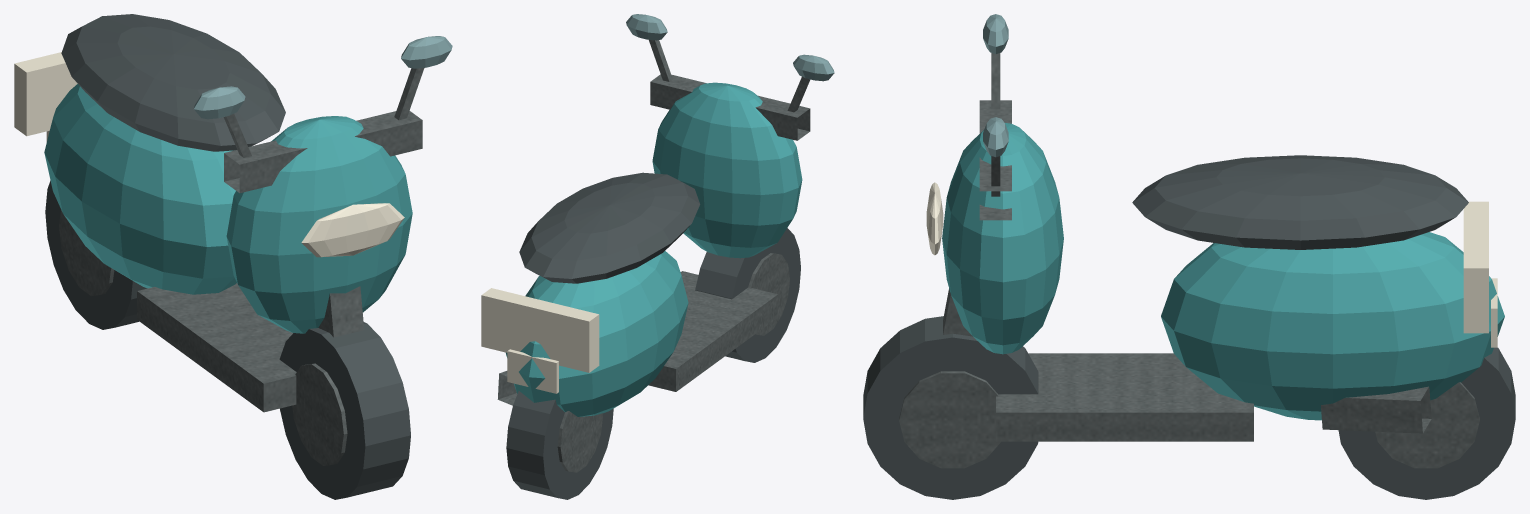
The model's file is tw_scooter.glb.
3 views of the same model, side by side, from view 1: azimuth 30°, elevation 25°; view 2: azimuth 150°, elevation 25°; view 3: azimuth 270°, elevation 25° (orthographic). The views are drawn at different scales.
Visible parts, largest first — view 1: FictionalShopAccent, CharcoalRecess, GalvanizedMetal, PaintedCream, OpaqueStoreGlazing; view 2: FictionalShopAccent, CharcoalRecess, GalvanizedMetal, PaintedCream, OpaqueStoreGlazing; view 3: FictionalShopAccent, CharcoalRecess, GalvanizedMetal, PaintedCream, OpaqueStoreGlazing.
Part boxes in pixels (box(x1,y1,x2,y2)): FictionalShopAccent: box(44, 84, 412, 333); CharcoalRecess: box(45, 14, 410, 499); GalvanizedMetal: box(59, 68, 424, 465); PaintedCream: box(14, 52, 404, 257); OpaqueStoreGlazing: box(194, 36, 452, 119); FictionalShopAccent: box(506, 82, 802, 416); CharcoalRecess: box(506, 172, 800, 499); GalvanizedMetal: box(497, 40, 810, 472); PaintedCream: box(481, 288, 599, 393); OpaqueStoreGlazing: box(626, 14, 834, 81); FictionalShopAccent: box(942, 123, 1504, 420); CharcoalRecess: box(863, 155, 1515, 499); GalvanizedMetal: box(899, 53, 1479, 468); PaintedCream: box(926, 182, 1497, 347); OpaqueStoreGlazing: box(983, 14, 1008, 157).
Bounding box in the file's own units: 0.85 × 1.29 × 1.82.
5 materials, 1 textured.
